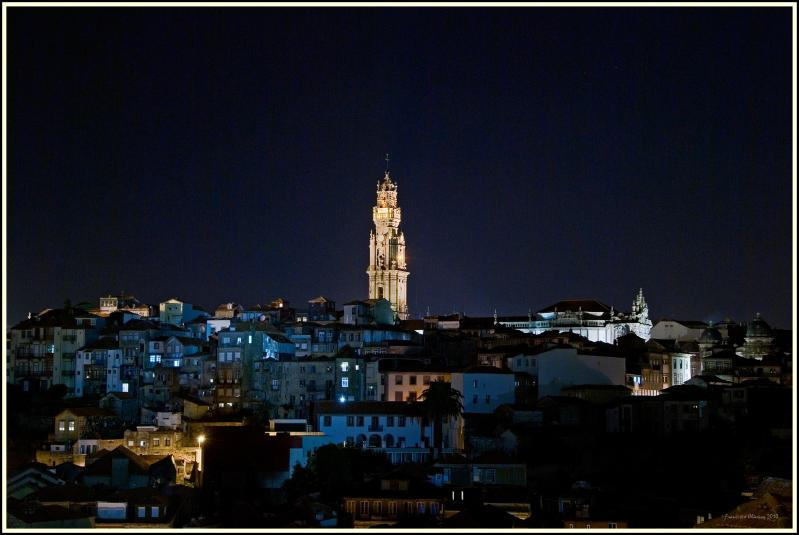clerigos: (366, 171, 409, 321)
